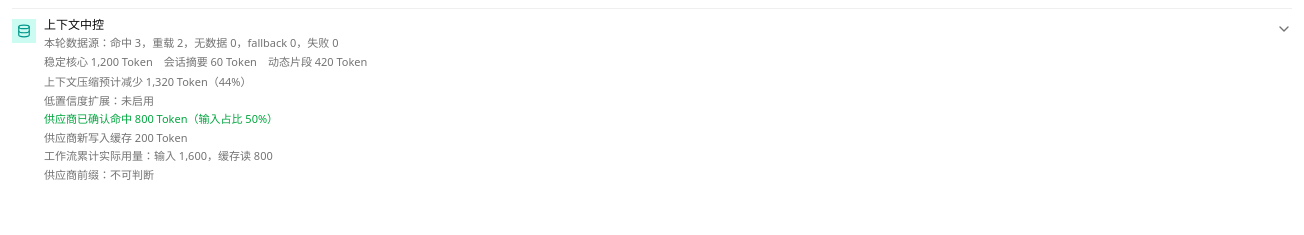
Scenario: ContextHubDetails › keeps summary statistics visible when the snapshot cannot be read
The image size is (1304, 235).
Click the button with aria-label "展开上下文中控" at {"x": 652, "y": 100}, box top-left (12, 17), bottom-right (1292, 183)
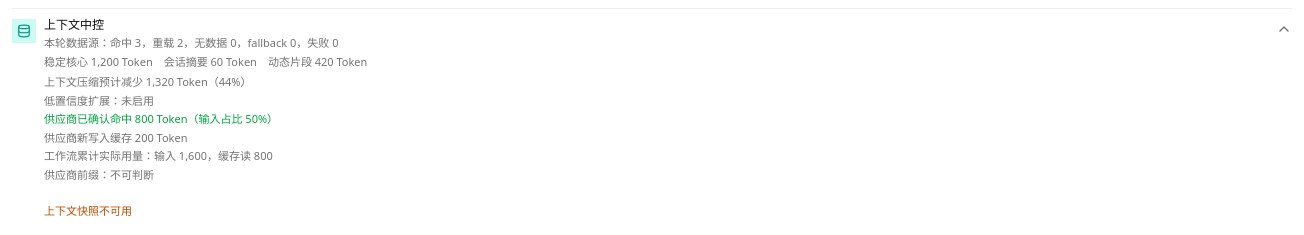
Expected: the text "命中 3" is shown, top-left (44, 35), bottom-right (338, 50)
Result: the text "上下文快照不可用" is shown at top-left (44, 203), bottom-right (132, 218)
